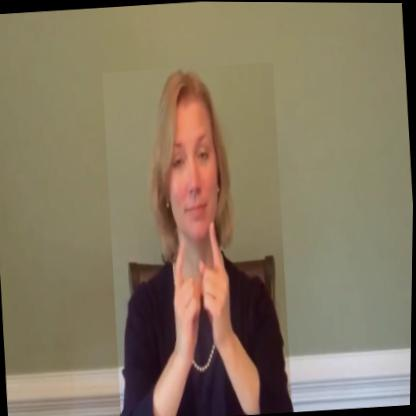NiceToMeetYou: (98, 61, 297, 416)
